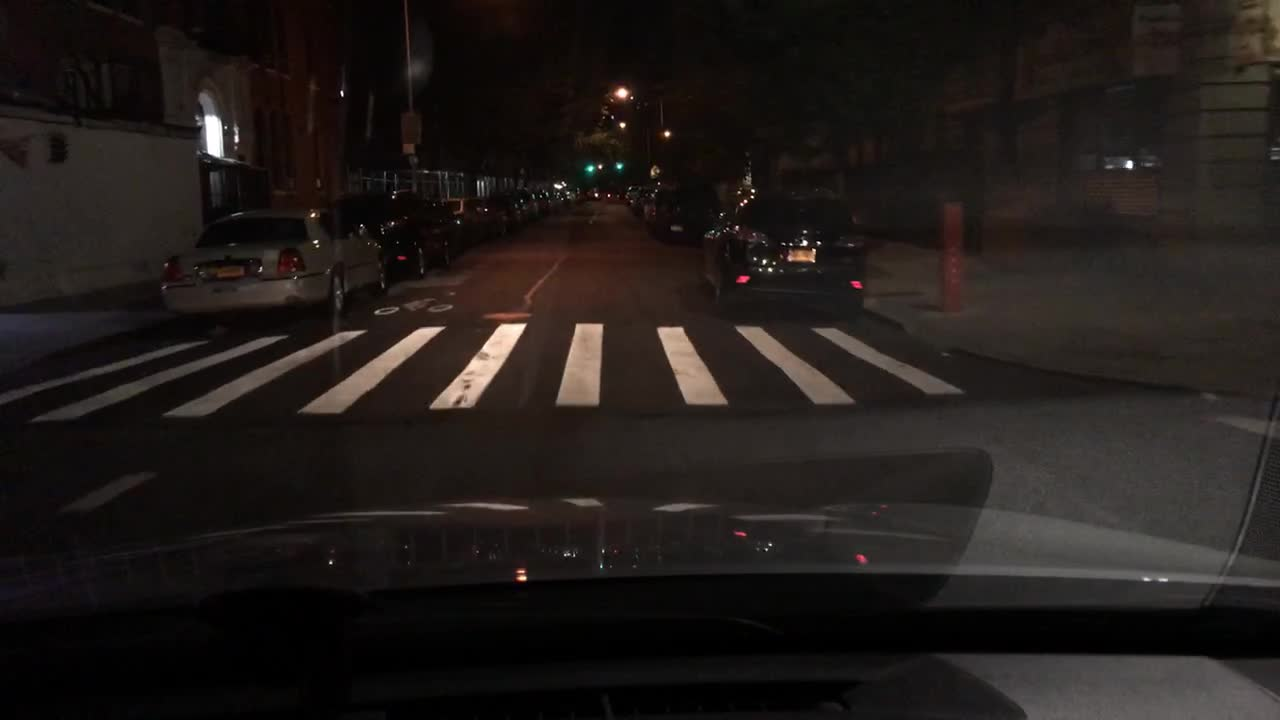car: (157, 204, 389, 331), (697, 184, 871, 313), (340, 190, 451, 276), (645, 182, 720, 242), (446, 199, 494, 243), (494, 188, 529, 227), (516, 190, 539, 225), (532, 188, 550, 215), (633, 188, 650, 215), (548, 188, 566, 209), (566, 186, 582, 204), (624, 186, 640, 202), (586, 188, 602, 200), (608, 190, 621, 204)
traffic light: (581, 163, 595, 177), (613, 161, 625, 175)
traffic sign: (401, 109, 423, 143), (647, 164, 661, 179), (401, 145, 416, 156)
